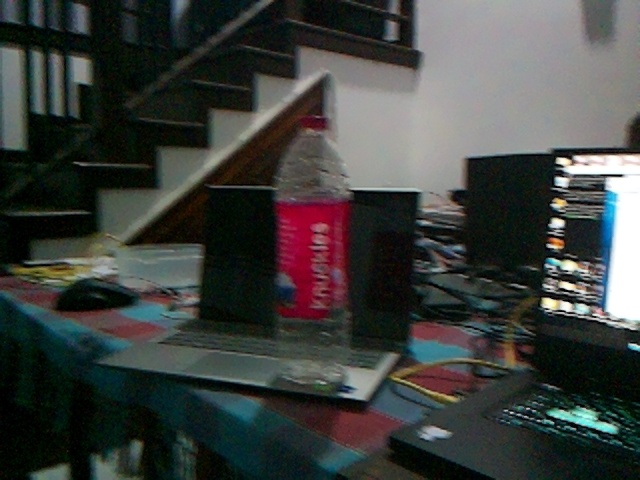bottle: (268, 113, 355, 386)
